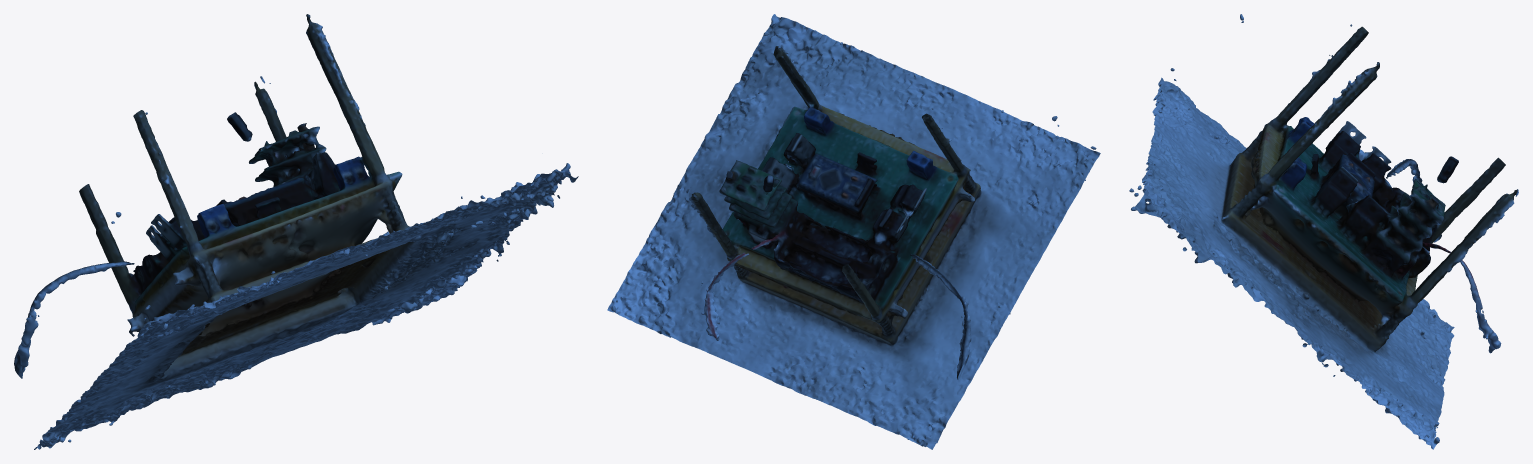
The model's file is Eletronics mesh.fbx.
3 renders of one model, left to right at view 1: azimuth 30°, elevation 25°; view 2: azimuth 150°, elevation 25°; view 3: azimuth 270°, elevation 25°, orthographic. The views are drawn at different scales.
Visible parts, largest first — view 1: Model; view 2: Model; view 3: Model.
Boxes of the visible parts, x1=… form: Model: x1=14, y1=14, x2=578, y2=449; Model: x1=607, y1=14, x2=1100, y2=449; Model: x1=1129, y1=14, x2=1518, y2=449.
Bounding box in the file's own units: 3.95 × 3.27 × 3.4.
